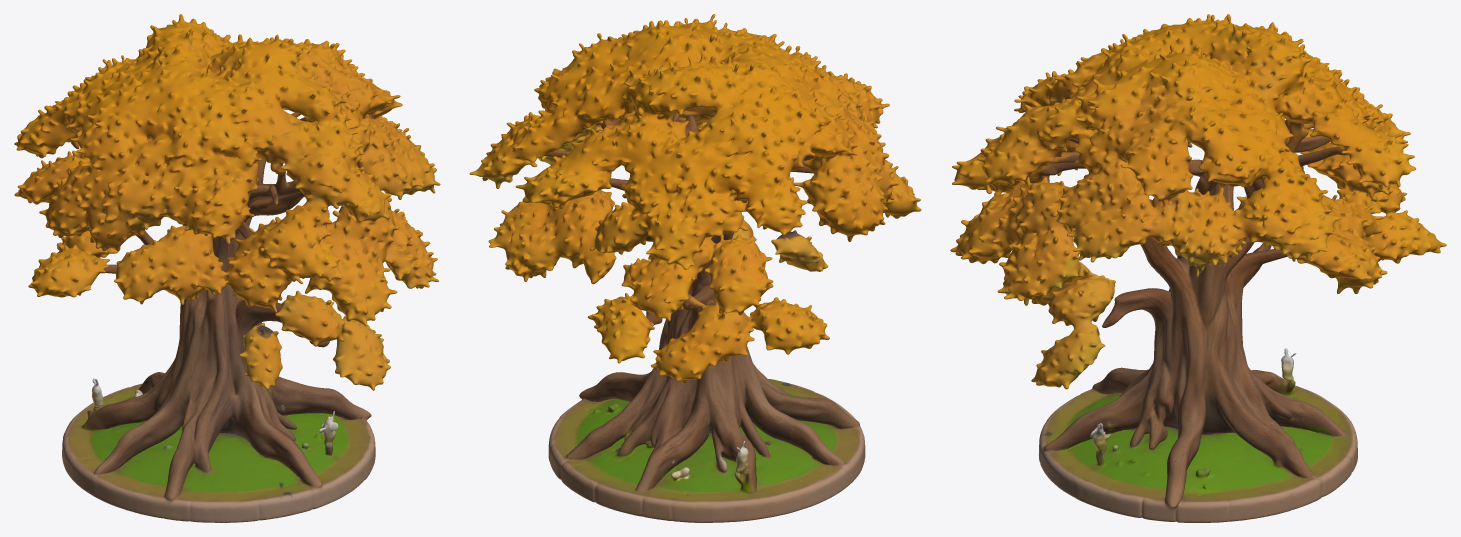
3 views of the same model, side by side, from view 1: azimuth 30°, elevation 25°; view 2: azimuth 150°, elevation 25°; view 3: azimuth 270°, elevation 25° (orthographic). The views are drawn at different scales.
Parts seen in each view (by area): view 1: tripo_node_d89eadd6-76a6-45b4-9c08-3742fb663458; view 2: tripo_node_d89eadd6-76a6-45b4-9c08-3742fb663458; view 3: tripo_node_d89eadd6-76a6-45b4-9c08-3742fb663458.
Boxes of the visible parts, left/top/right/bottom form: tripo_node_d89eadd6-76a6-45b4-9c08-3742fb663458: left=14, top=14, right=440, bottom=522; tripo_node_d89eadd6-76a6-45b4-9c08-3742fb663458: left=469, top=14, right=921, bottom=522; tripo_node_d89eadd6-76a6-45b4-9c08-3742fb663458: left=950, top=14, right=1446, bottom=522.
Bounding box in the file's own units: 0.8387 × 0.9663 × 0.9999.
Materials: 1 (1 with a texture image).
